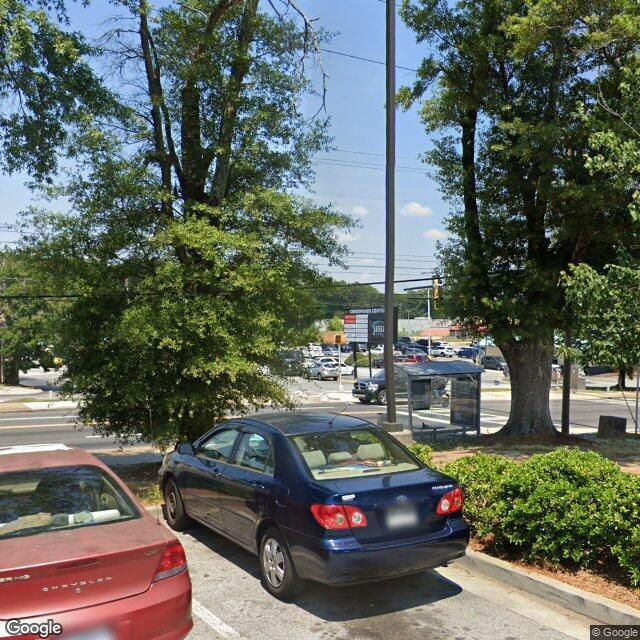seating: (412, 425, 446, 441)
shelter: (392, 359, 486, 440)
